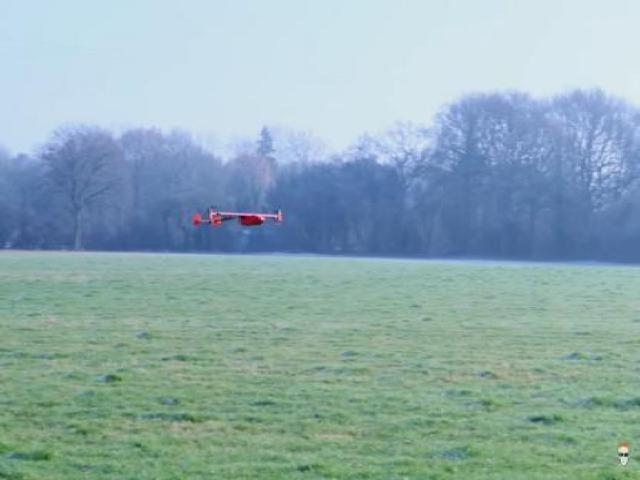uav: (186, 180, 286, 252)
